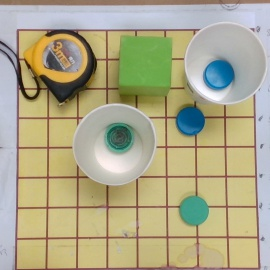blue: (176, 108, 206, 137)
cup_blue: (180, 21, 267, 108)
cup_green: (73, 103, 158, 188)
green: (179, 196, 209, 226)
